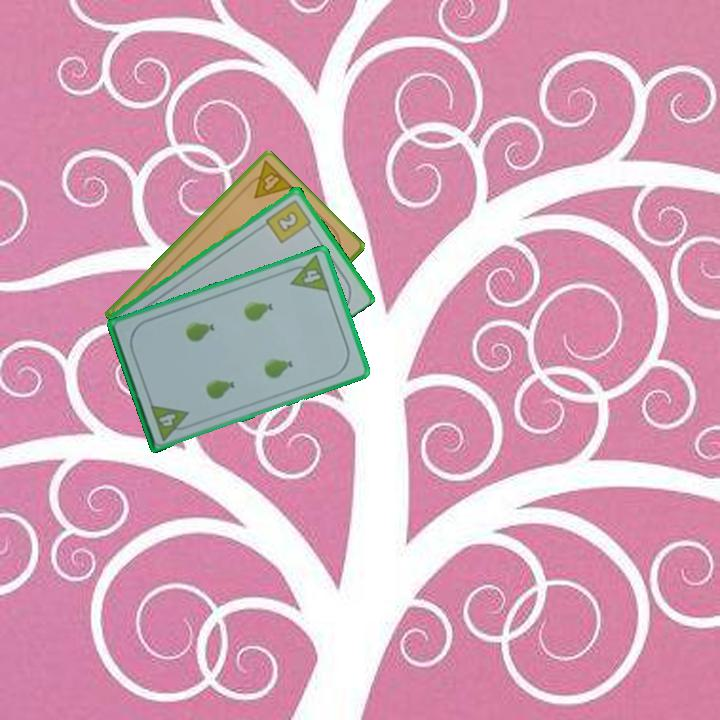2b: (262, 196, 316, 246)
4p: (240, 157, 296, 201), (283, 252, 332, 295), (147, 400, 195, 443)
